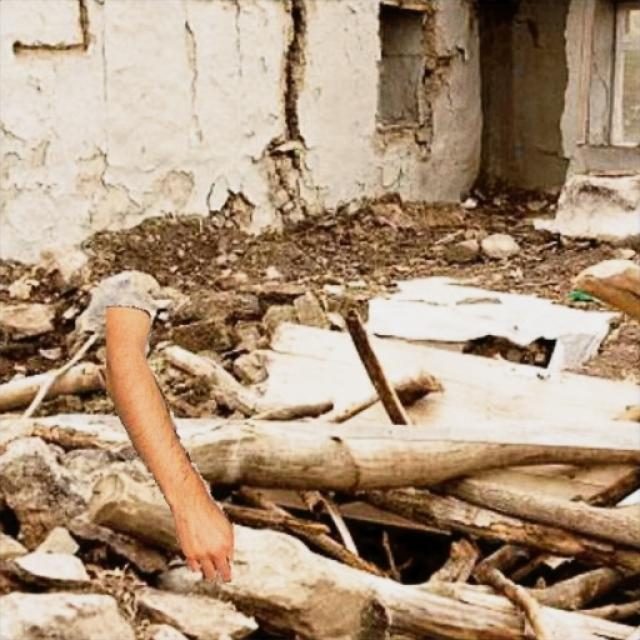Person in Rubble: (106, 305, 232, 581)
